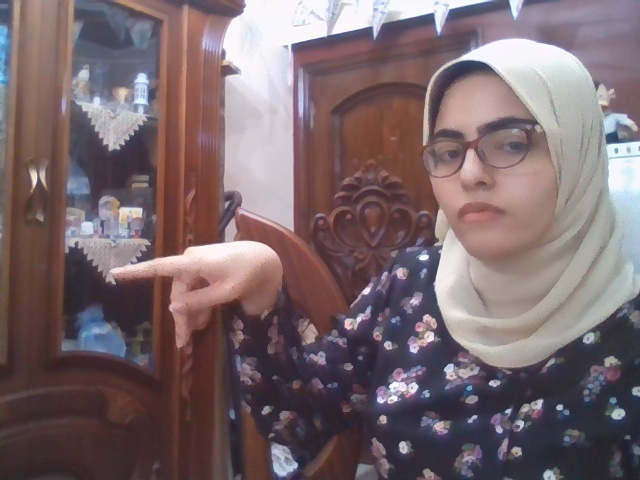P: (112, 241, 278, 347)
